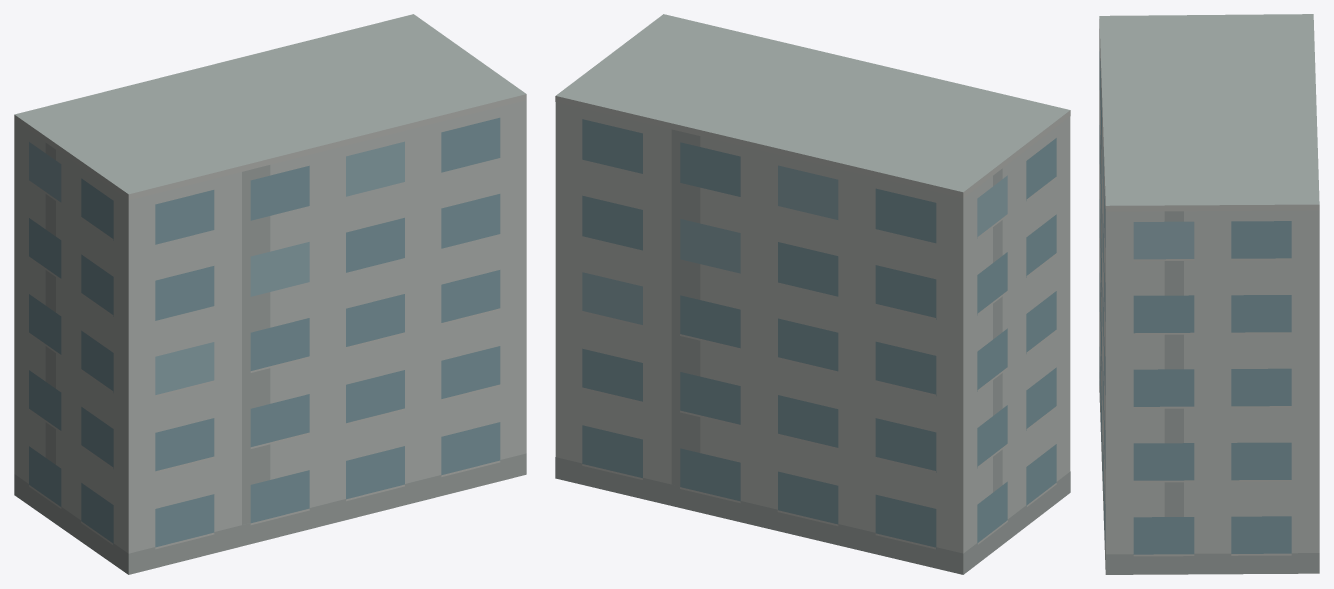
The model's file is survey-upis-32816272.glb.
3 views of the same model, side by side, from view 1: azimuth 30°, elevation 25°; view 2: azimuth 150°, elevation 25°; view 3: azimuth 270°, elevation 25° (orthographic). The views are drawn at different scales.
Parts seen in each view (by area): view 1: survey-upis-32816272.tmp; view 2: survey-upis-32816272.tmp; view 3: survey-upis-32816272.tmp.
Part boxes in pixels (x1,y1,x2,y2): survey-upis-32816272.tmp: (14,14,526,574); survey-upis-32816272.tmp: (555,14,1070,574); survey-upis-32816272.tmp: (1099,14,1319,574).
Bounding box in the file's own units: 17.04 × 15.28 × 8.27.
